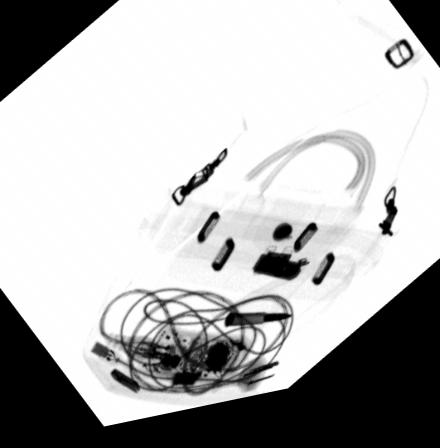Bullet: (221, 320, 295, 337)
